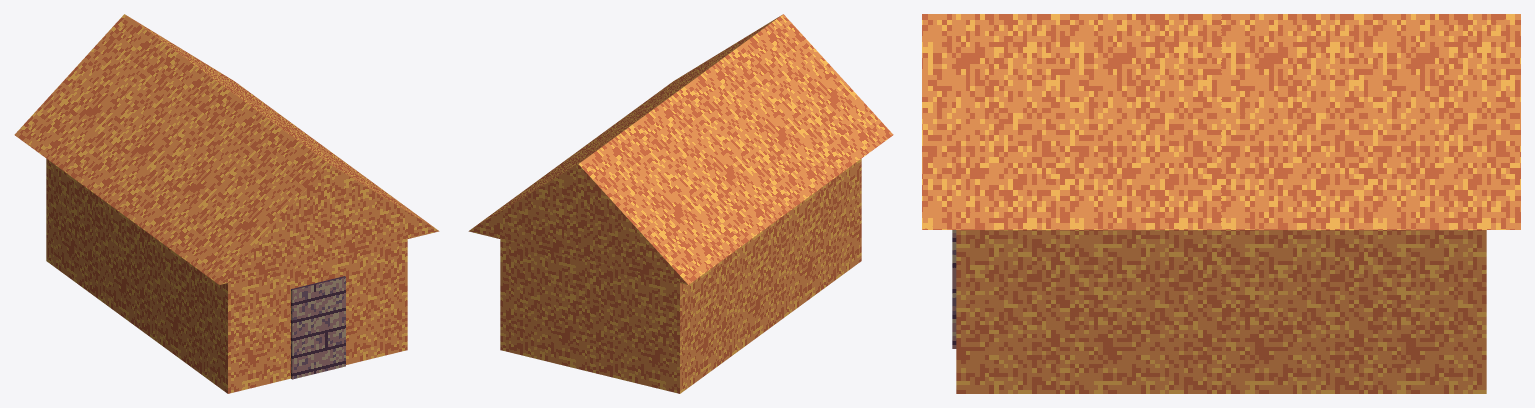
File: oasis_zahra_banhos.glb
3 views of the same model, side by side, from view 1: azimuth 30°, elevation 25°; view 2: azimuth 150°, elevation 25°; view 3: azimuth 270°, elevation 25° (orthographic). The views are drawn at different scales.
Parts seen in each view (by area): view 1: oasis_zahra_banhos; view 2: oasis_zahra_banhos; view 3: oasis_zahra_banhos.
Boxes of the visible parts, x1=… form: oasis_zahra_banhos: x1=14, y1=14, x2=439, y2=393; oasis_zahra_banhos: x1=468, y1=14, x2=893, y2=393; oasis_zahra_banhos: x1=922, y1=14, x2=1520, y2=393.
Size of the model in its own units: 4.9 by 4.6 by 7.9.
Materials: 2 (2 with a texture image).
